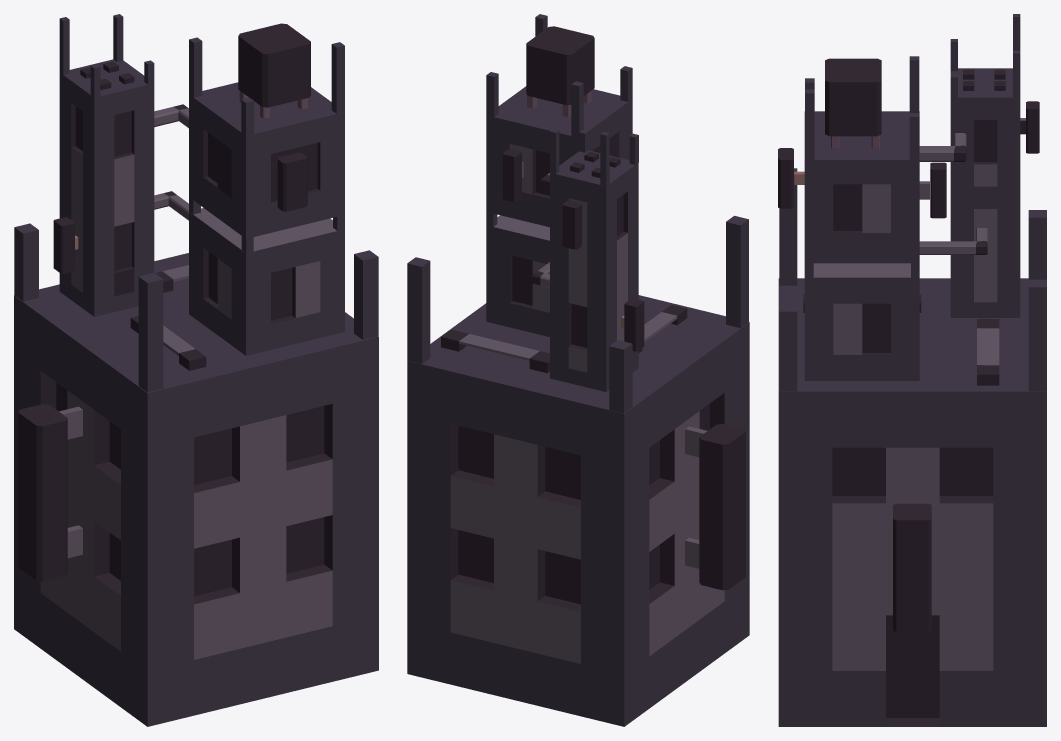
File: Tower-3-3.fbx
3 views of the same model, side by side, from view 1: azimuth 30°, elevation 25°; view 2: azimuth 150°, elevation 25°; view 3: azimuth 270°, elevation 25° (orthographic). The views are drawn at different scales.
Parts seen in each view (by area): view 1: Tower-3-3.001; view 2: Tower-3-3.001; view 3: Tower-3-3.001.
Part boxes in pixels (<box>): Tower-3-3.001: <box>14,14,378,726</box>; Tower-3-3.001: <box>407,14,749,726</box>; Tower-3-3.001: <box>778,14,1046,726</box>.
Size of the model in its own units: 96.81 by 173 by 67.59.
